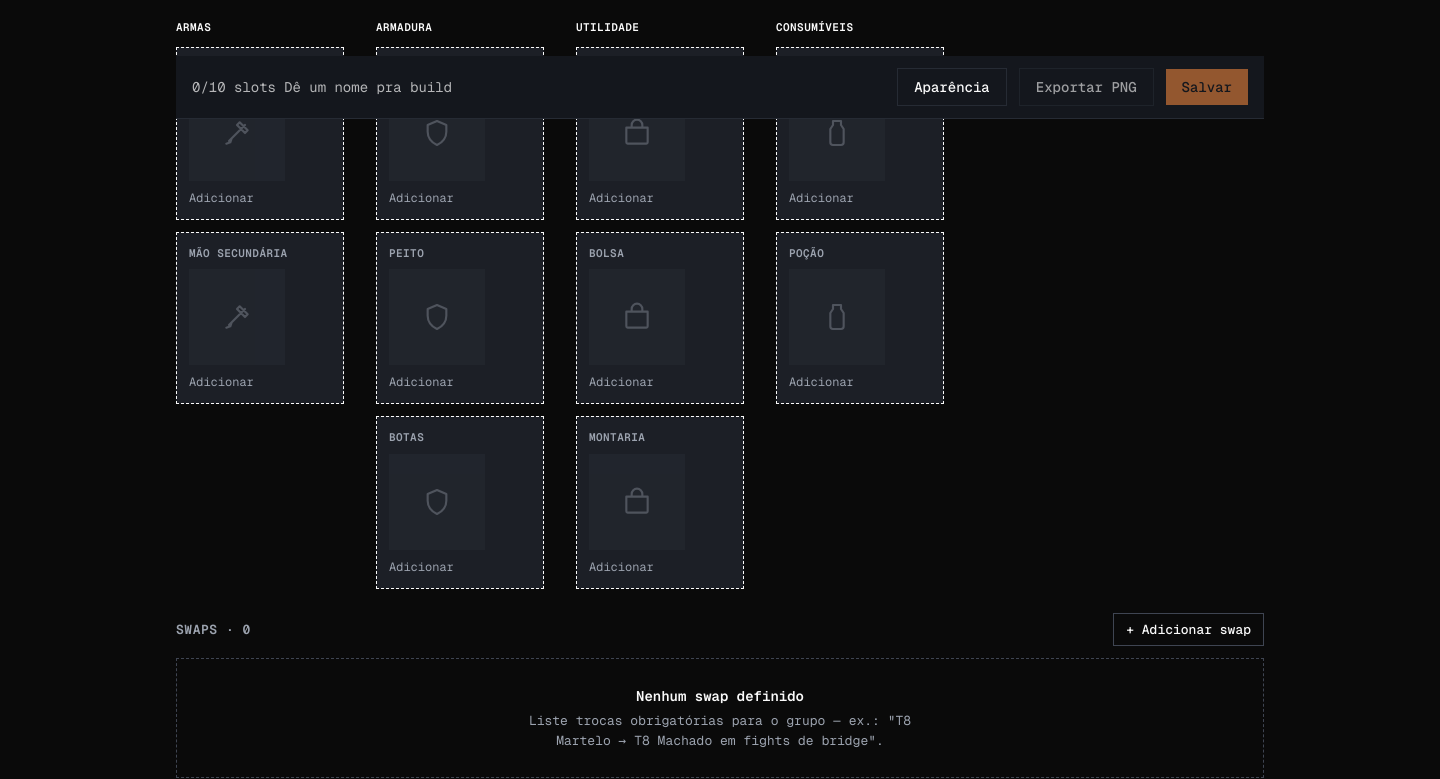
Test: /build/new — Swaps section (ACM-012, RF-3) › editing the label of a swap on the real route writes it into the store
(page scrolled)
Click the button "+ Adicionar swap" at (1189, 629), box x1=1113 y1=612 x2=1264 y2=646
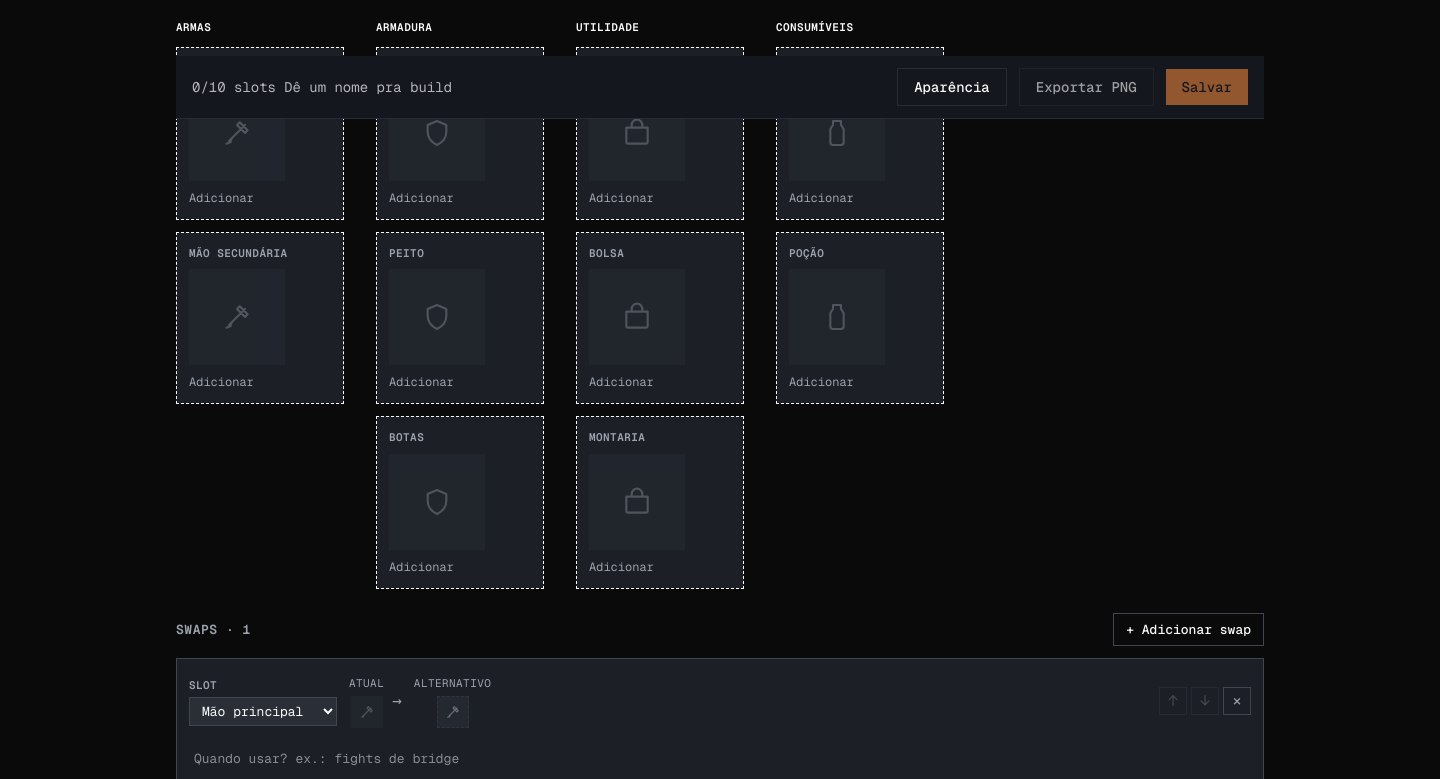
Type "Bridge fight" into the field named "Rótulo do swap 1" at (720, 758), box x1=189 y1=744 x2=1251 y2=773
(page scrolled)
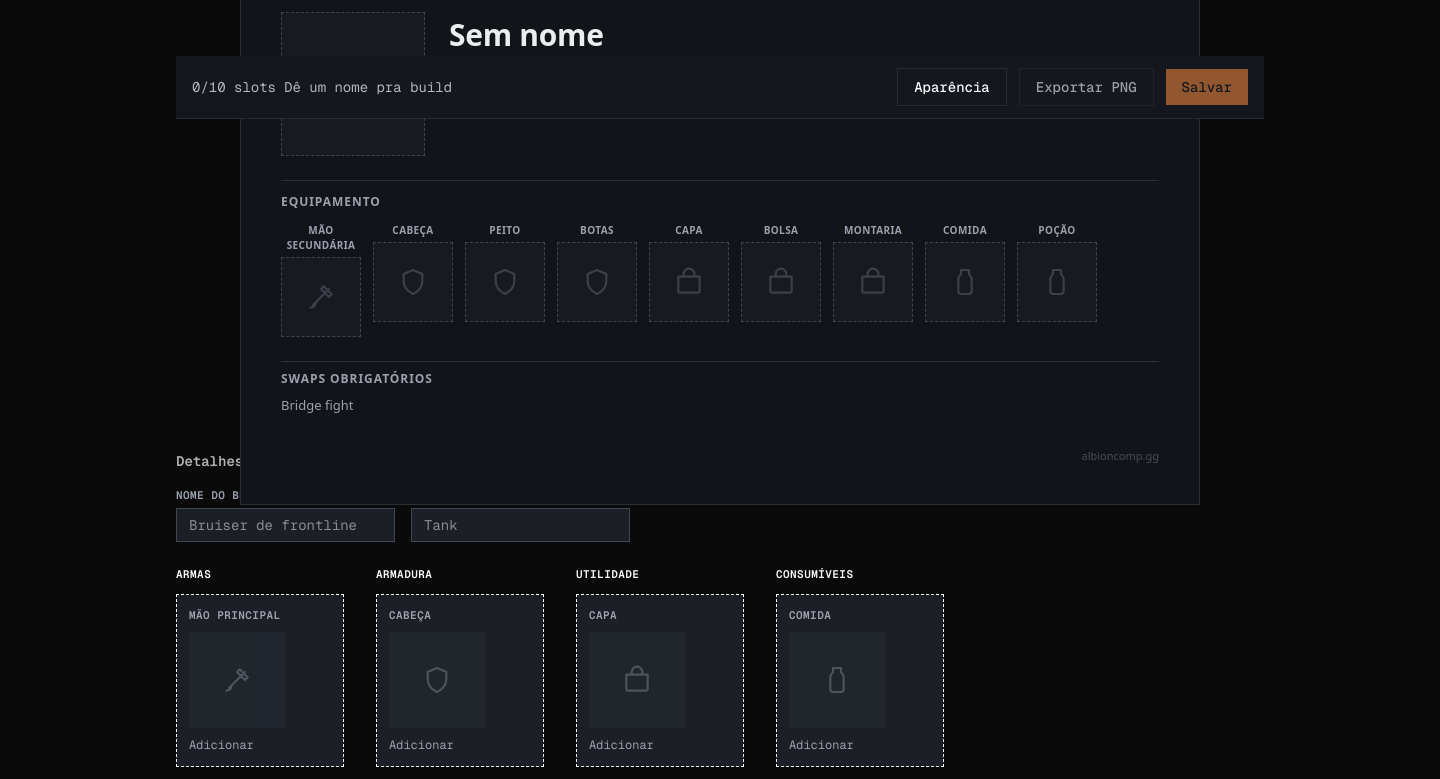
Now the list item "Bridge fight" is shown, box x1=281 y1=396 x2=353 y2=414
